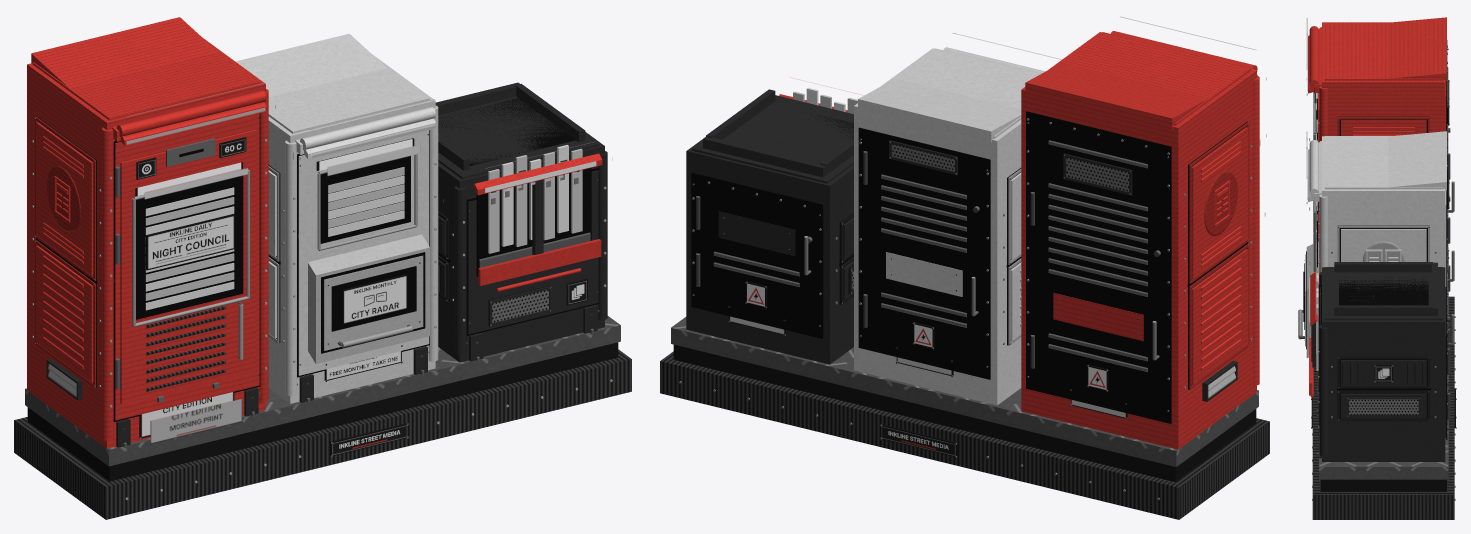
Rendered from newsboxes-B9QpJd1i.glb.
3 views of the same model, side by side, from view 1: azimuth 30°, elevation 25°; view 2: azimuth 150°, elevation 25°; view 3: azimuth 270°, elevation 25° (orthographic). The views are drawn at different scales.
Parts seen in each view (by area): view 1: body, farBaked, glow; view 2: body; view 3: body, farBaked.
Boxes of the visible parts, x1,y1,x2,y2 form: body: (14,17,631,519); farBaked: (109,82,595,444); glow: (126,107,596,437); body: (660,31,1269,519); body: (1298,17,1456,519); farBaked: (1306,18,1317,328).
Size of the model in its own units: 1.52 by 1.11 by 0.5134.
Materials: 3 (3 with a texture image).
